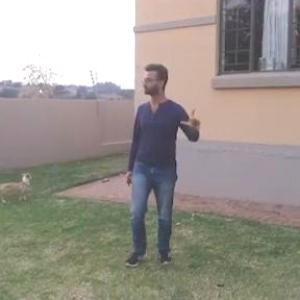land_hand: (172, 104, 202, 138)
